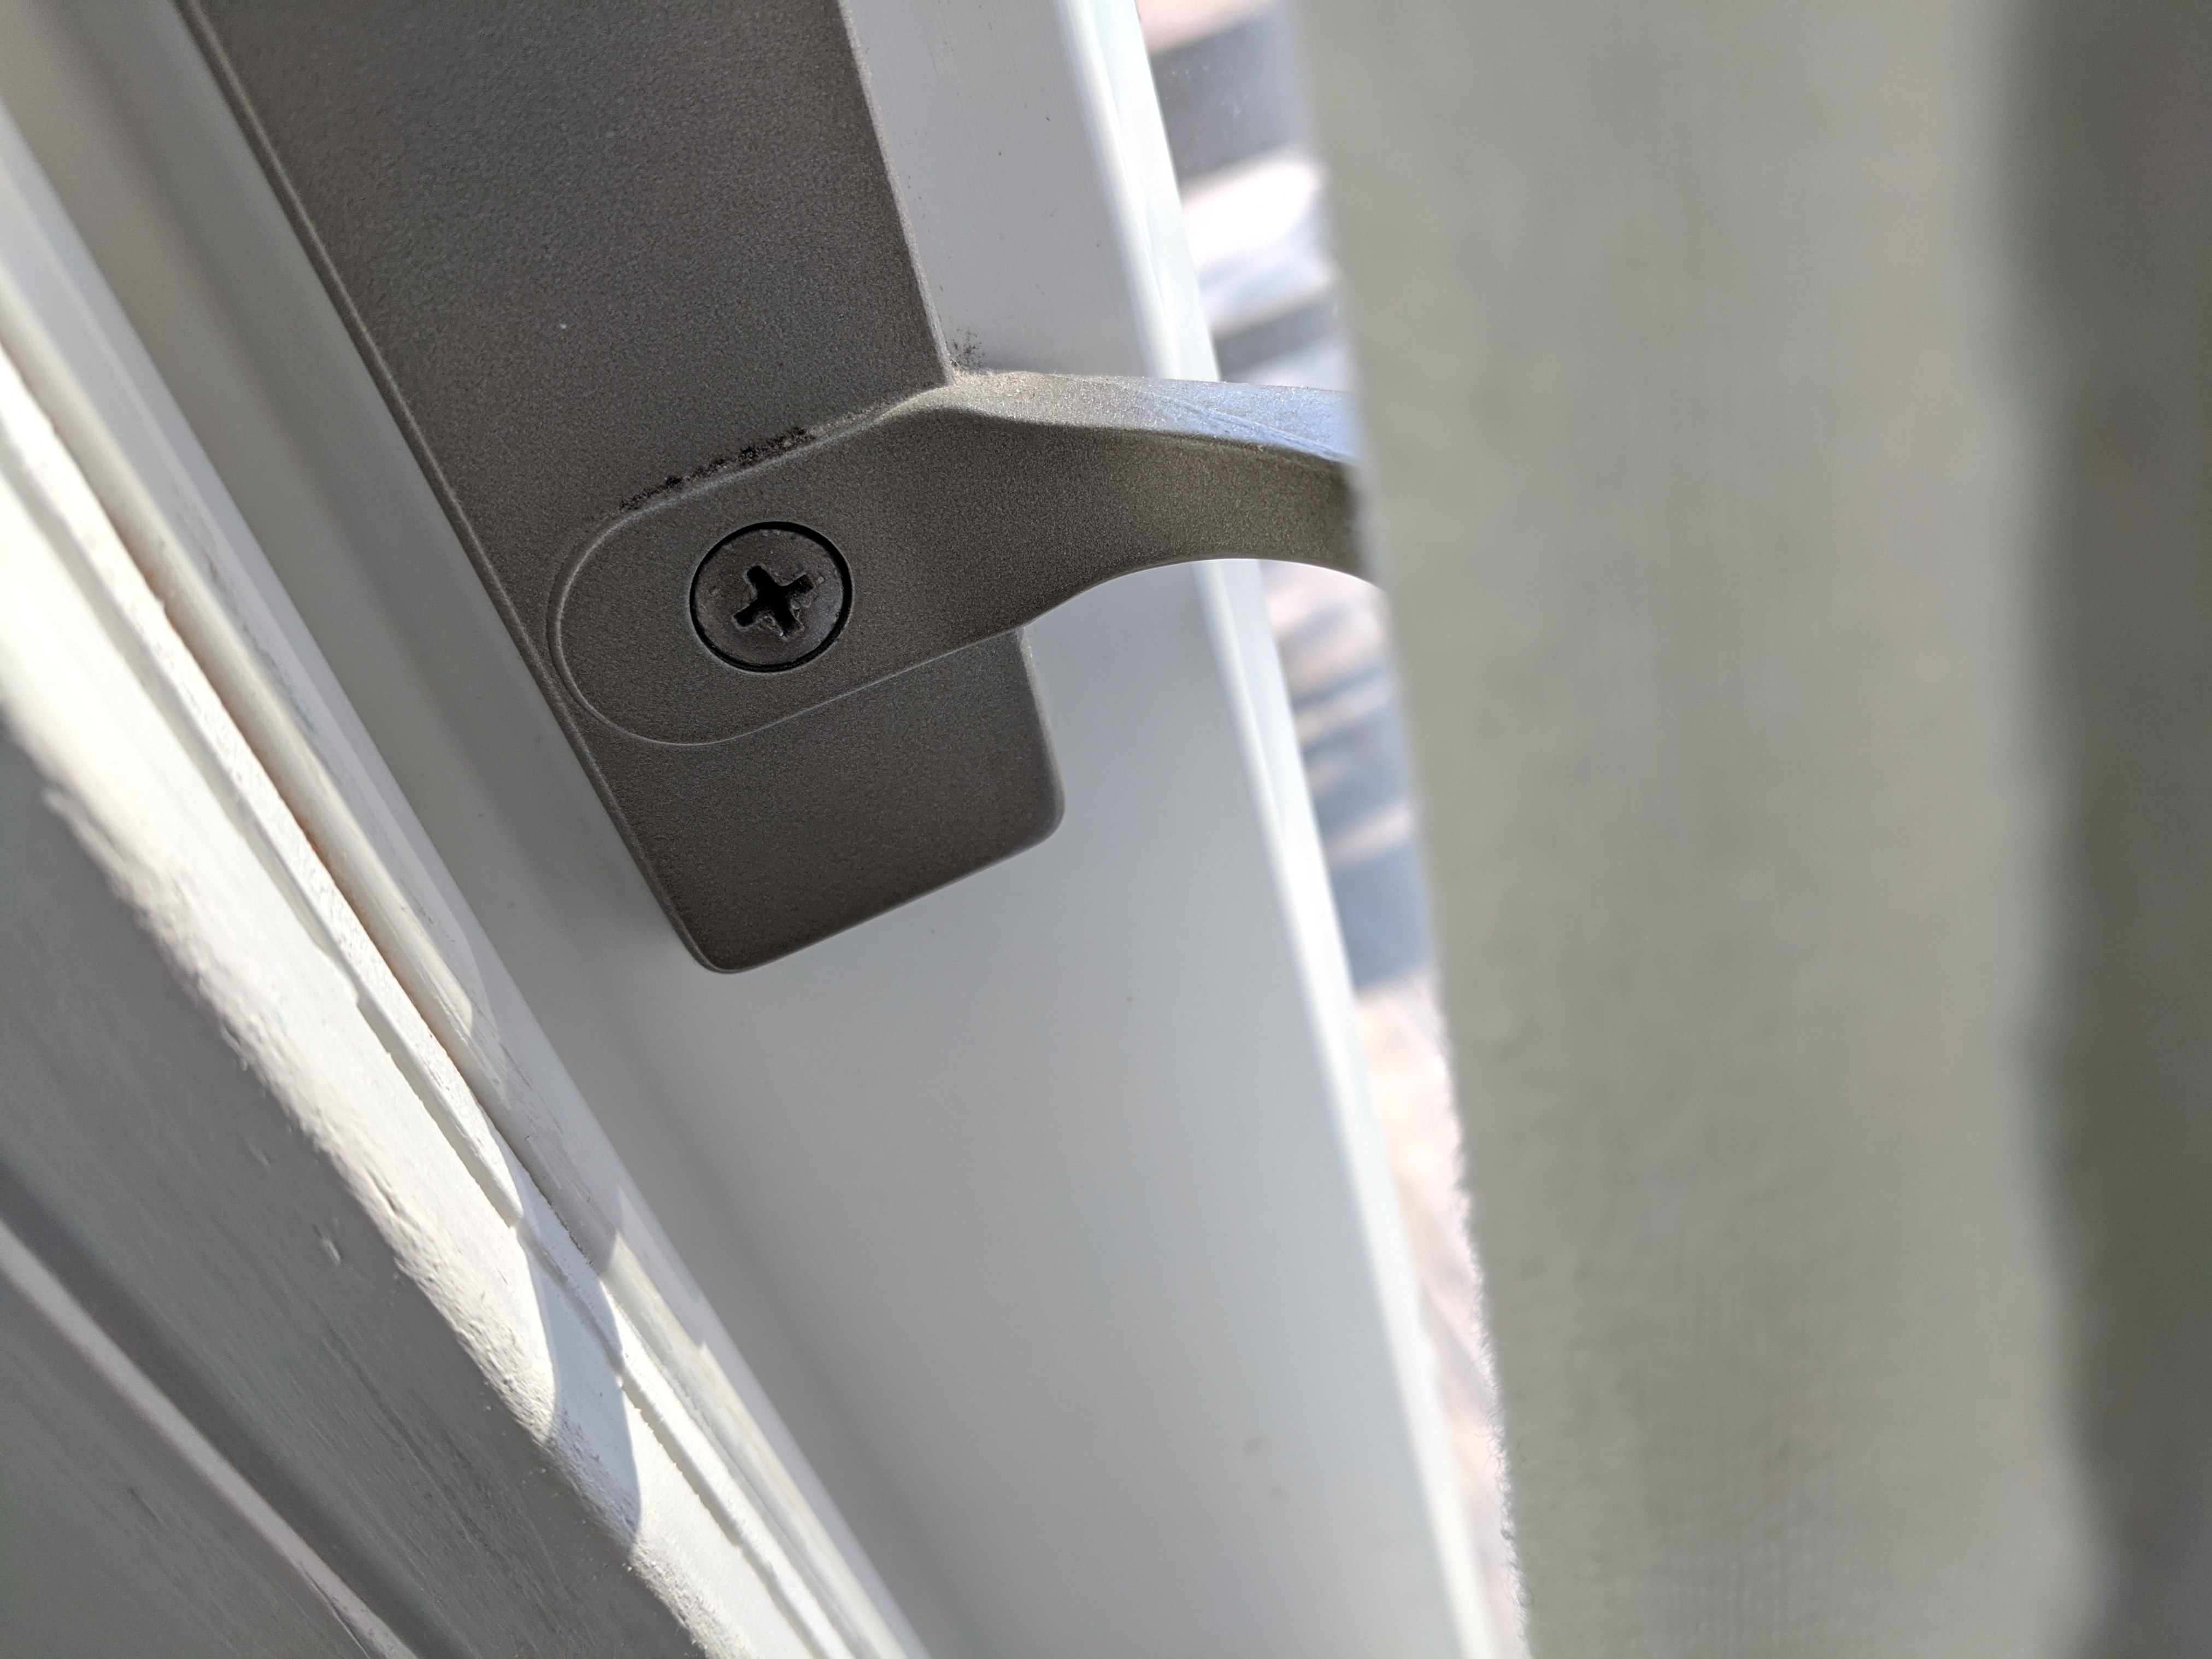cross_recessed_screw: (691, 523, 859, 673)
